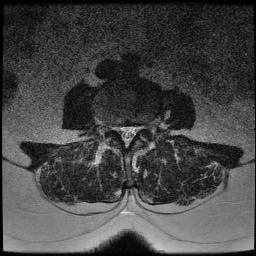CCS_normal: (124, 119, 131, 155)
LFS_stenosis: (137, 117, 145, 138)
LLS_normal: (131, 120, 137, 146)
RFS_stenosis: (108, 117, 117, 139)
RLS_normal: (117, 120, 124, 145)
